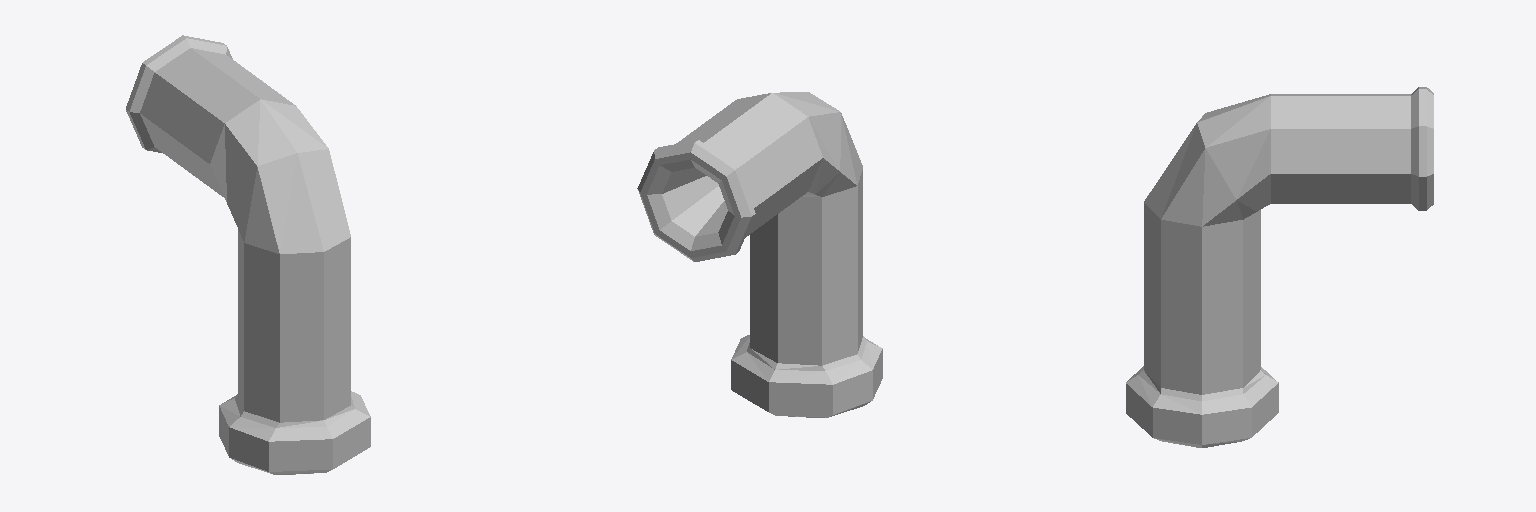
File: tap.obj
The picture shows the model from 3 angles: view 1: azimuth 30°, elevation 25°; view 2: azimuth 150°, elevation 25°; view 3: azimuth 270°, elevation 25°; orthographic projection.
Parts seen in each view (by area): view 1: tap; view 2: tap; view 3: tap.
Part boxes in pixels (x1,y1,x2,y2): tap: (126, 35, 370, 474); tap: (637, 92, 882, 417); tap: (1126, 87, 1433, 447).
Size of the model in its own units: 2.6 by 6.31 by 5.28.